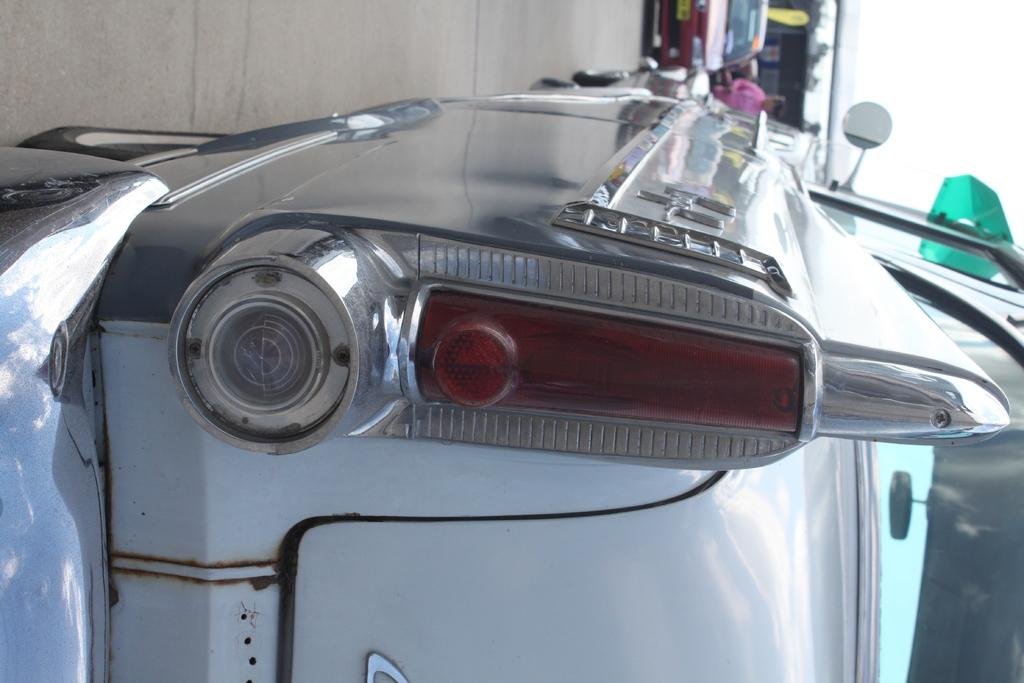Car: (0, 74, 1023, 682), (651, 0, 769, 71)
